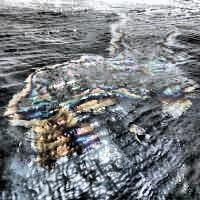rainbow: (15, 57, 145, 120)
truecolor: (82, 10, 183, 96), (32, 108, 77, 166)
